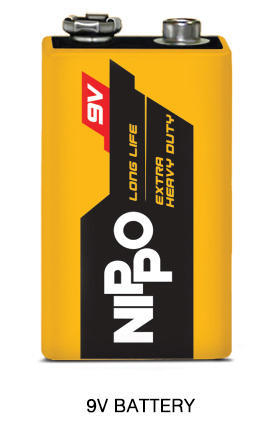9V: (29, 9, 246, 366)
